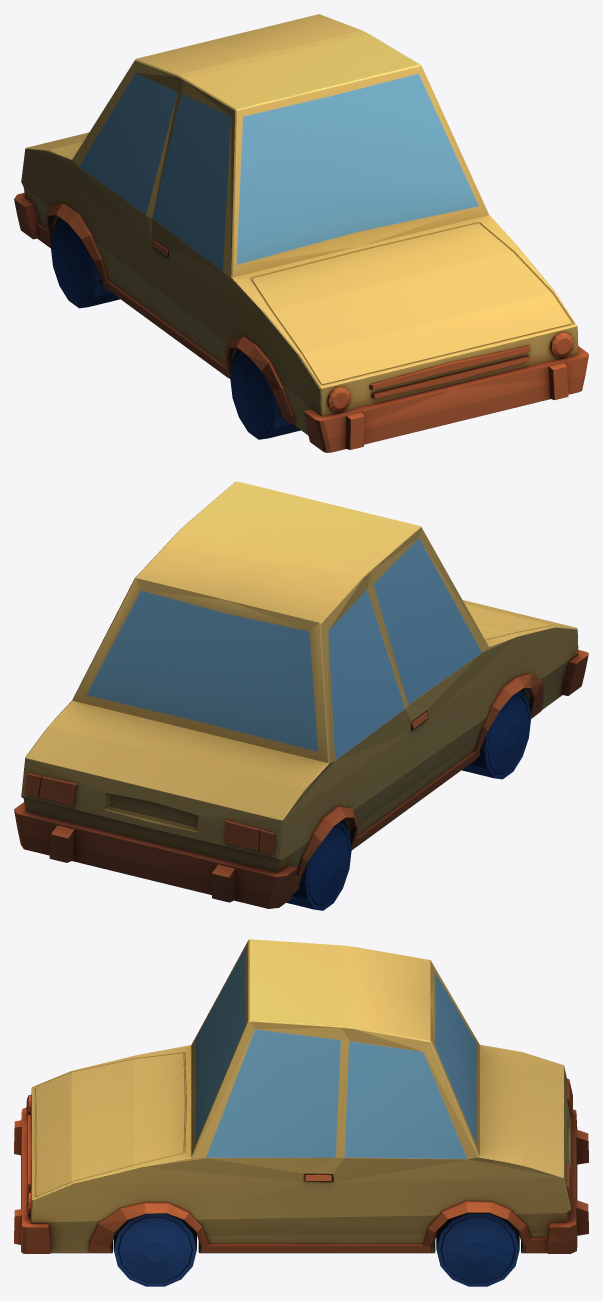
Rendered from CAR.FBX.
3 views of the same model, one above another, from view 1: azimuth 30°, elevation 25°; view 2: azimuth 150°, elevation 25°; view 3: azimuth 270°, elevation 25° (orthographic). The views are drawn at different scales.
Parts seen in each view (by area): view 1: CAR, CAR_Wheel_R_T, CAR_Wheel_R_D; view 2: CAR, CAR_Wheel_R_D, CAR_Wheel_R_T; view 3: CAR, CAR_Wheel_L_T, CAR_Wheel_L_D.
Part boxes in pixels (x1=…): CAR: x1=14, y1=14, x2=588, y2=452; CAR_Wheel_R_T: x1=50, y1=219, x2=119, y2=308; CAR_Wheel_R_D: x1=230, y1=351, x2=300, y2=439; CAR: x1=14, y1=481, x2=588, y2=908; CAR_Wheel_R_D: x1=462, y1=691, x2=531, y2=779; CAR_Wheel_R_T: x1=286, y1=822, x2=351, y2=910; CAR: x1=14, y1=939, x2=588, y2=1253; CAR_Wheel_L_T: x1=436, y1=1212, x2=519, y2=1286; CAR_Wheel_L_D: x1=113, y1=1213, x2=196, y2=1286.
Bounding box in the file's own units: 76.8 × 73.86 × 153.
